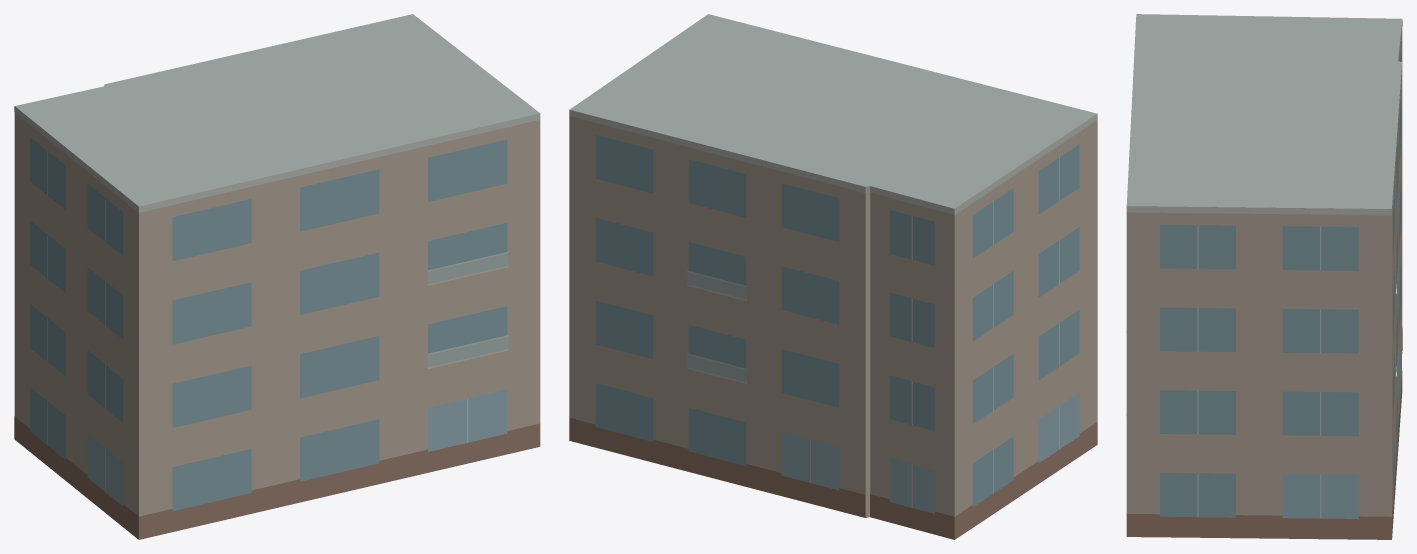
The model's file is survey-upis-32464000.glb.
The picture shows the model from 3 angles, left to right: view 1: azimuth 30°, elevation 25°; view 2: azimuth 150°, elevation 25°; view 3: azimuth 270°, elevation 25°; orthographic projection.
Visible parts, largest first — view 1: survey-upis-32464000.tmp; view 2: survey-upis-32464000.tmp; view 3: survey-upis-32464000.tmp.
Part boxes in pixels (x1,y1,x2,y2): survey-upis-32464000.tmp: [14, 14, 540, 539]; survey-upis-32464000.tmp: [569, 14, 1097, 539]; survey-upis-32464000.tmp: [1126, 14, 1402, 539].
Bounding box in the file's own units: 16.23 × 12.82 × 9.7.
